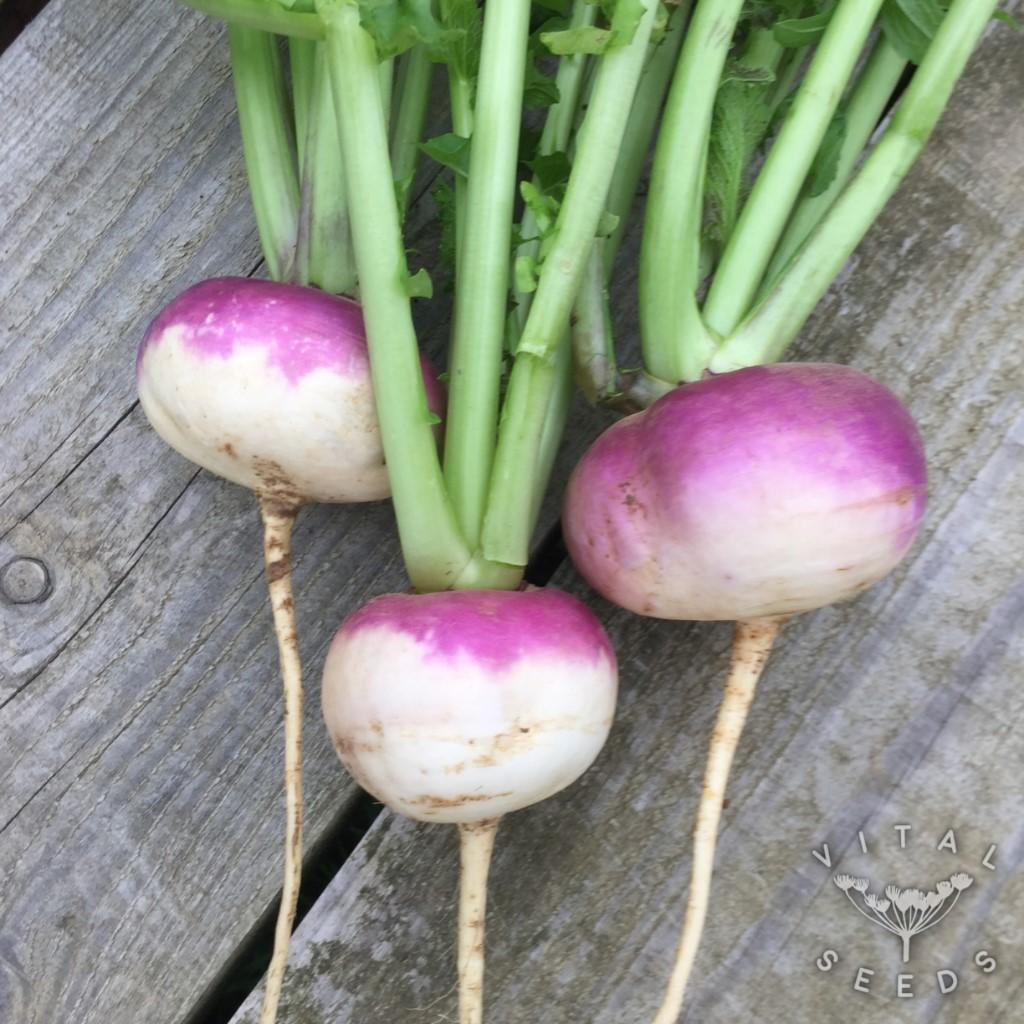turnip: (306, 0, 620, 1022), (559, 358, 928, 1022), (134, 274, 448, 1022), (319, 581, 618, 1022)
